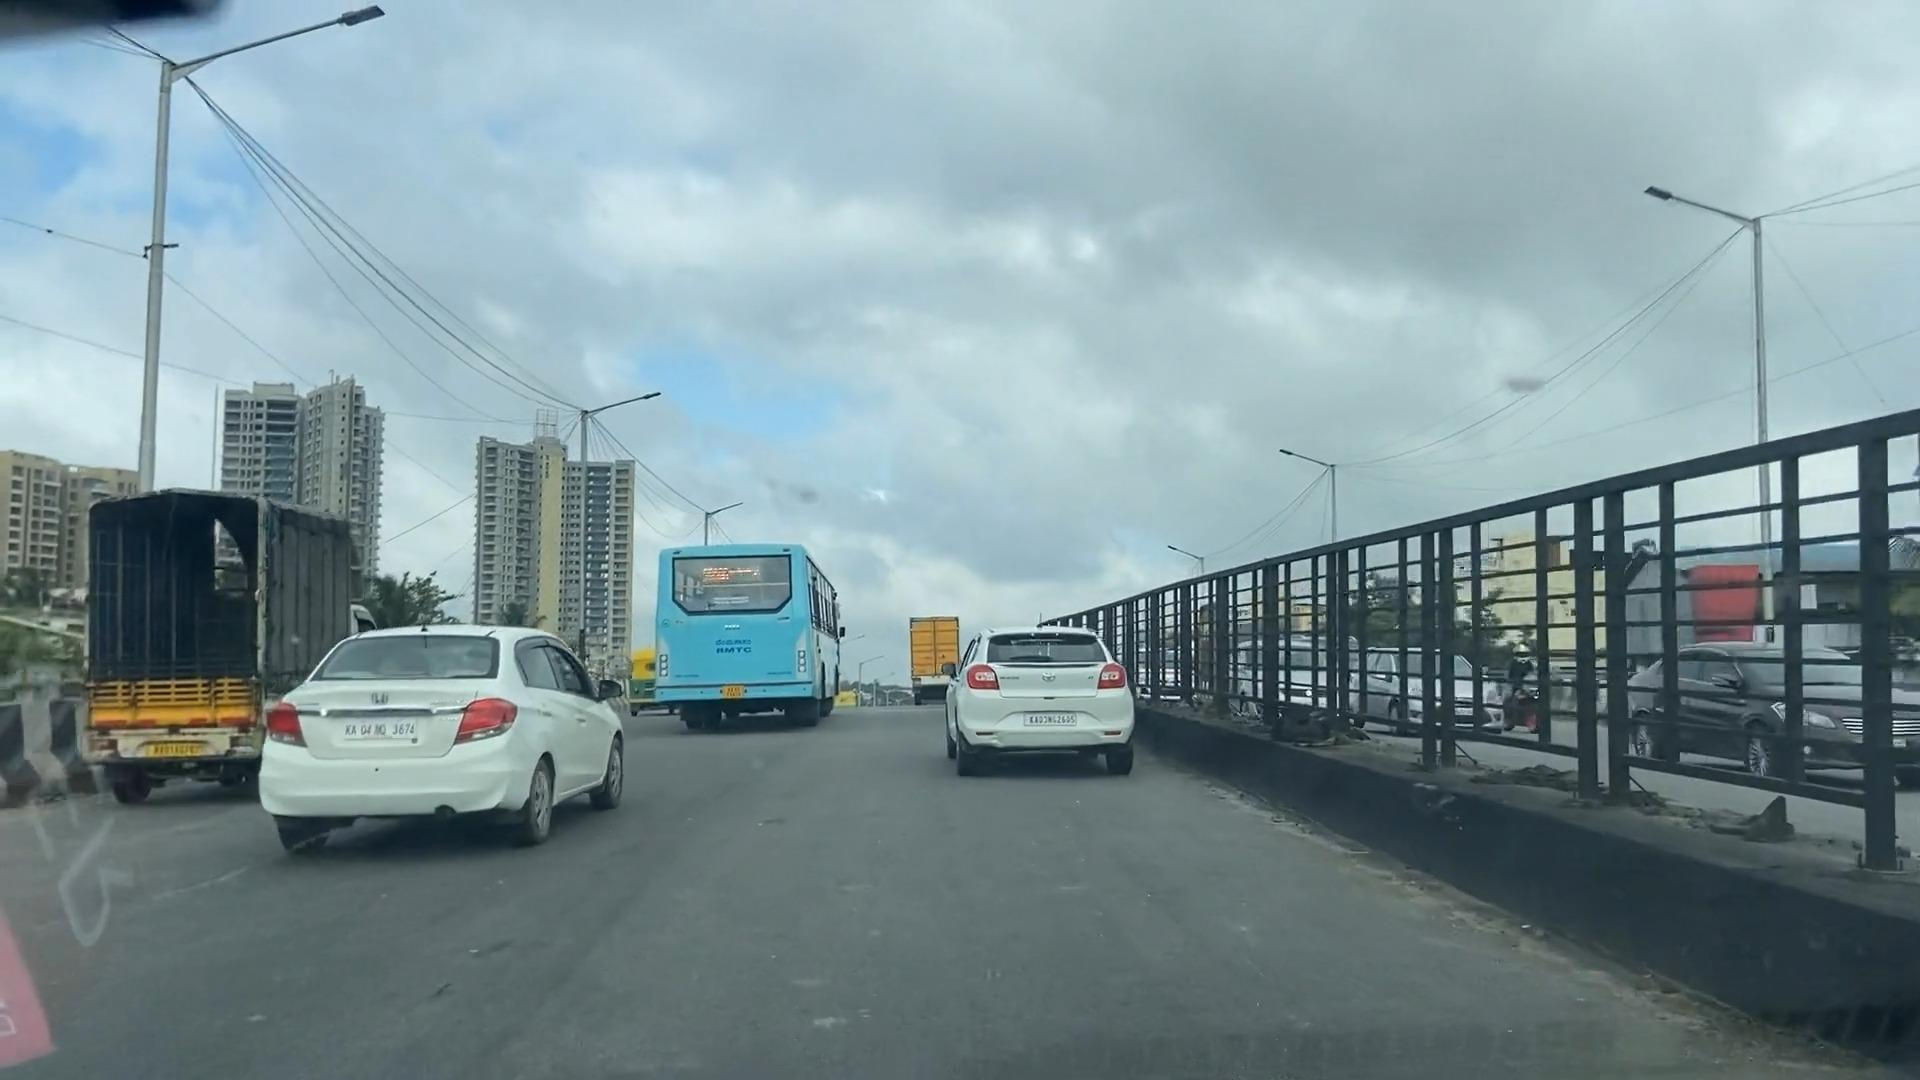HMV: (596, 489, 866, 778), (890, 596, 965, 709)
